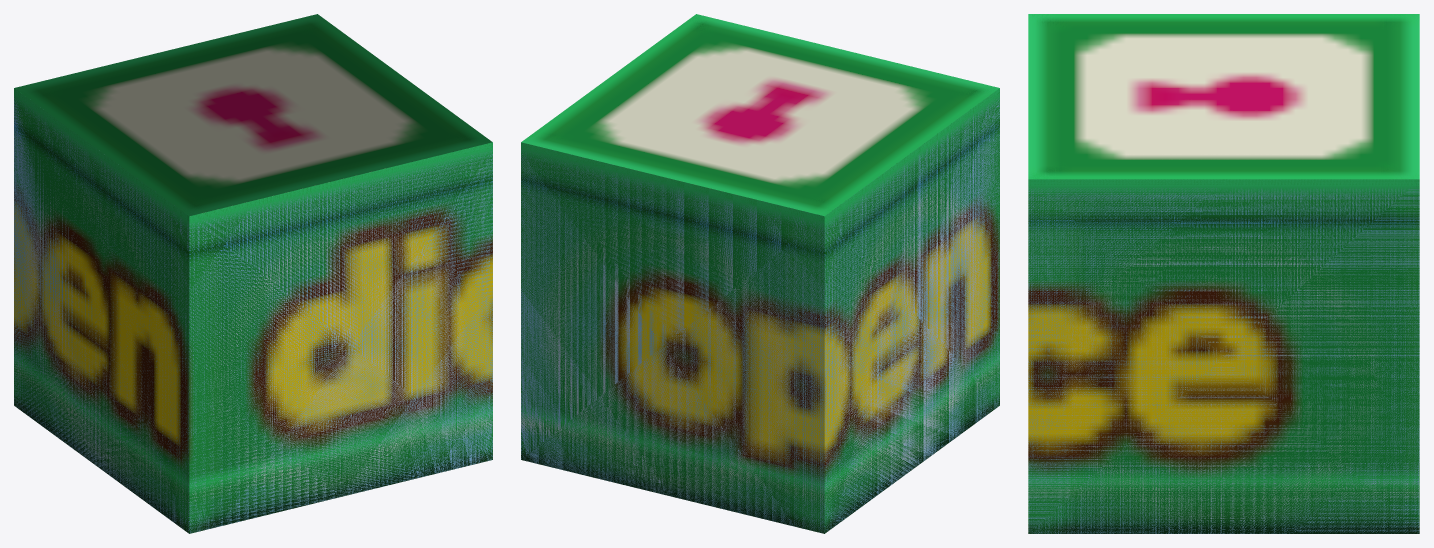
The model's file is icon_a1.ico.obj.
The picture shows the model from 3 angles, left to right: view 1: azimuth 30°, elevation 25°; view 2: azimuth 150°, elevation 25°; view 3: azimuth 270°, elevation 25°; orthographic projection. The views are drawn at different scales.
Bounding box in the file's own units: 2.5 × 2.51 × 2.5.
1 material, 1 textured.
